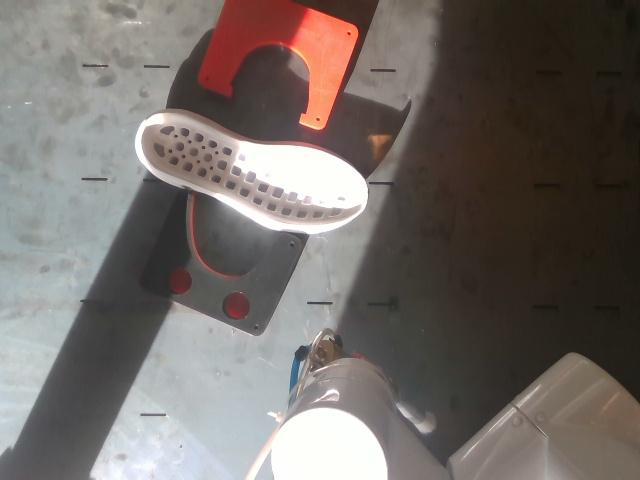shoes: (141, 113, 367, 225)
